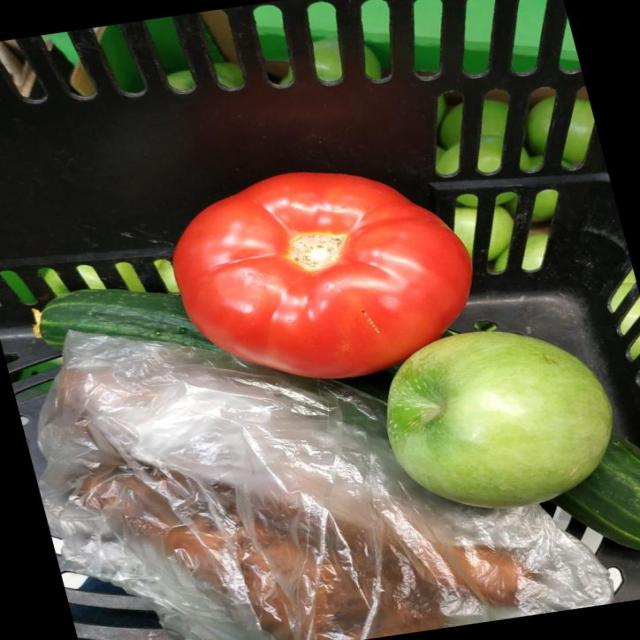Apple: (387, 332, 610, 506)
Cucumber: (36, 288, 217, 349), (554, 435, 640, 551)
Tomatoes: (172, 172, 470, 376)
